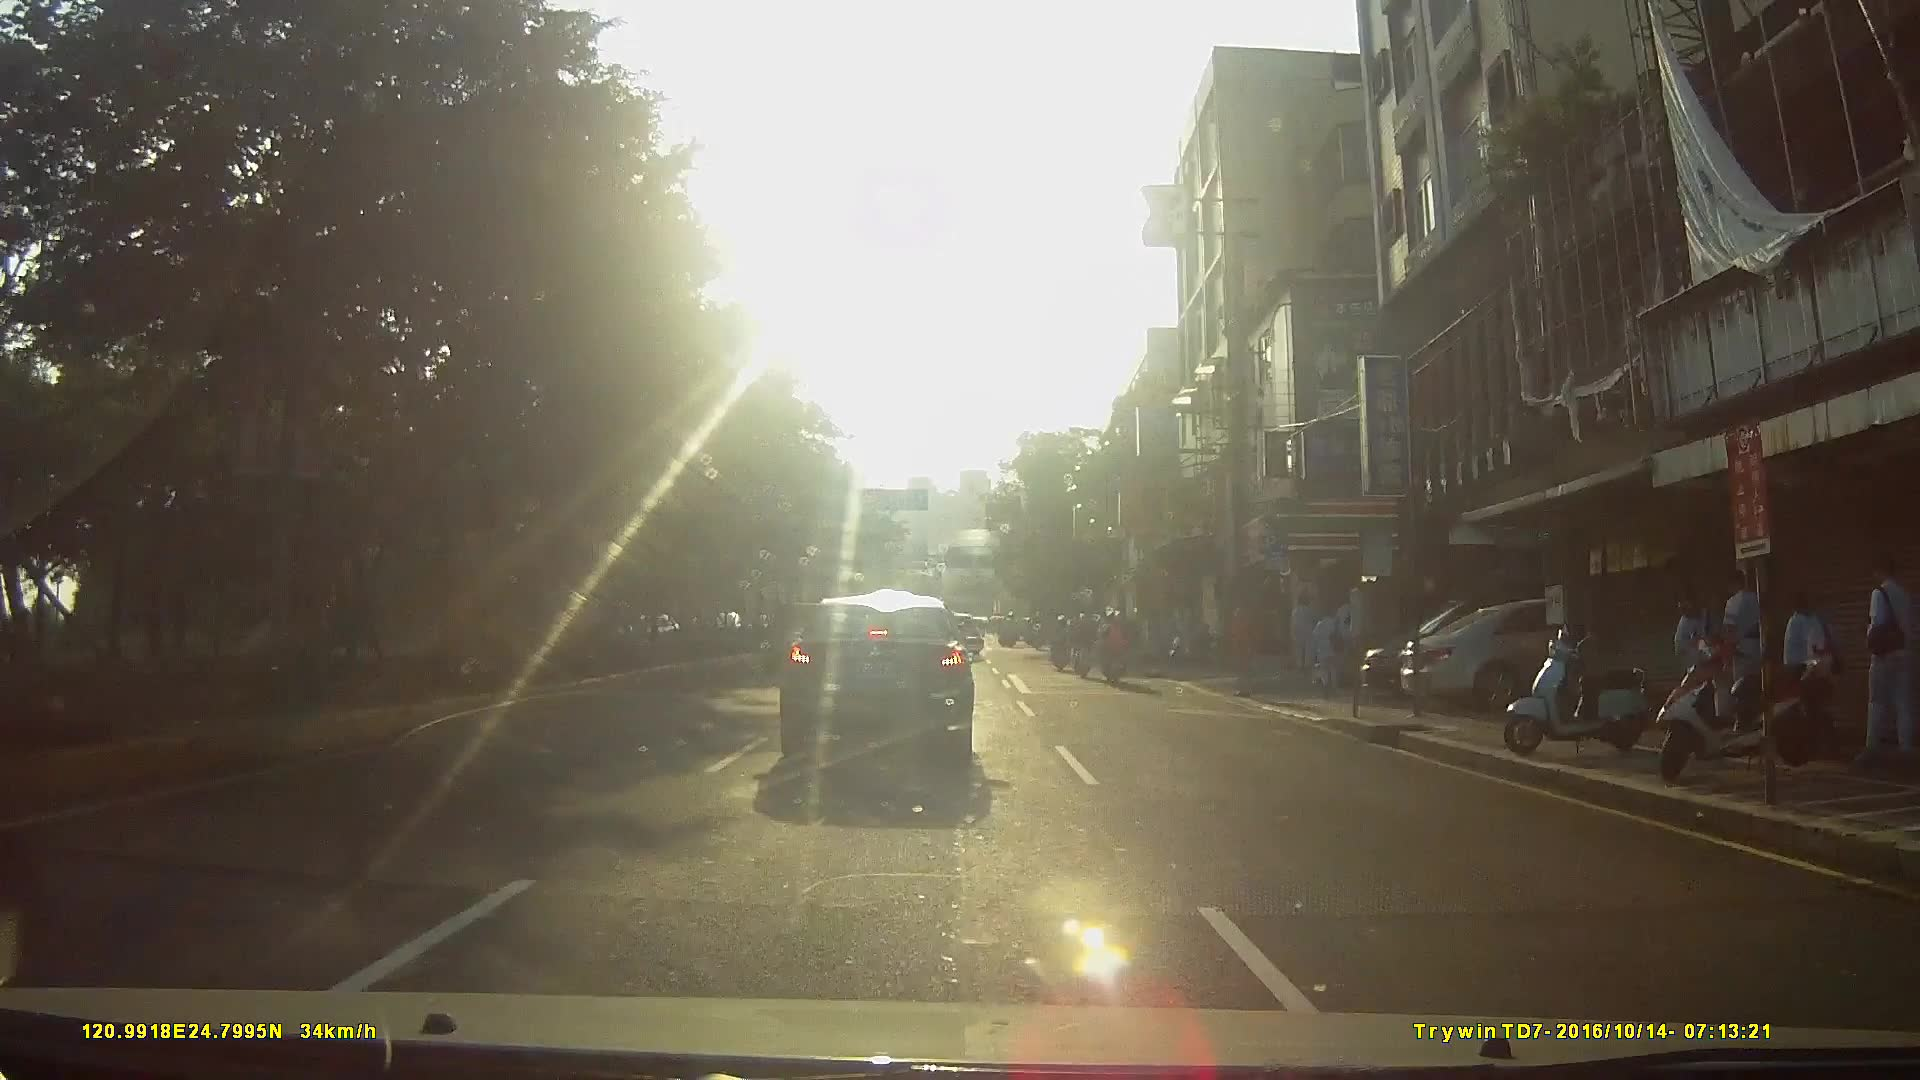pedestrian: (1852, 551, 1914, 768), (1720, 559, 1775, 747), (1782, 585, 1833, 742), (1677, 578, 1720, 725), (1309, 603, 1352, 702)
rider: (1099, 613, 1137, 693), (1068, 611, 1095, 685), (1048, 618, 1073, 678)
vehicle: (760, 583, 995, 781), (1397, 593, 1735, 714)
